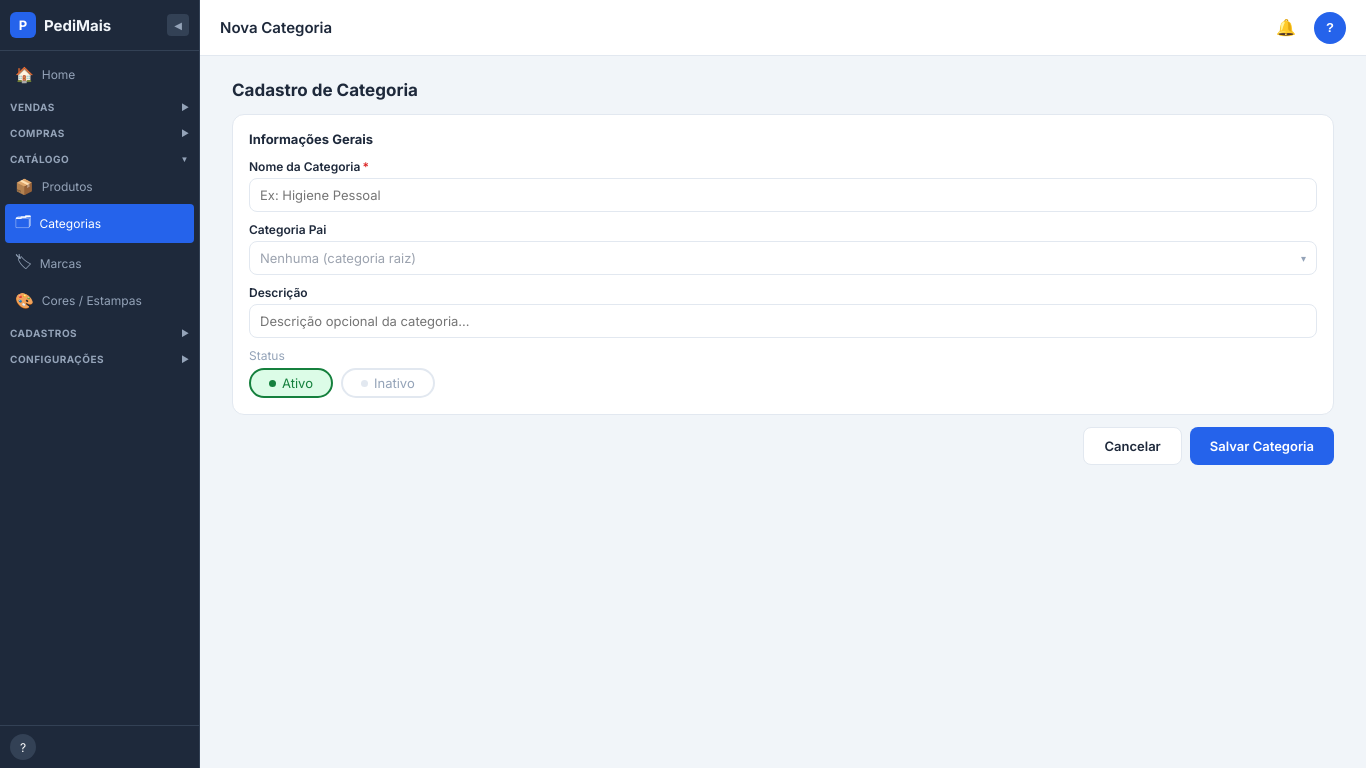
Test case: CategoryFormView › shows a conflict message on duplicate nome (409)
Type "Camisas" into the field with test id "nome".
click(783, 195); type("Camisas")  # box [249, 178, 1317, 212]
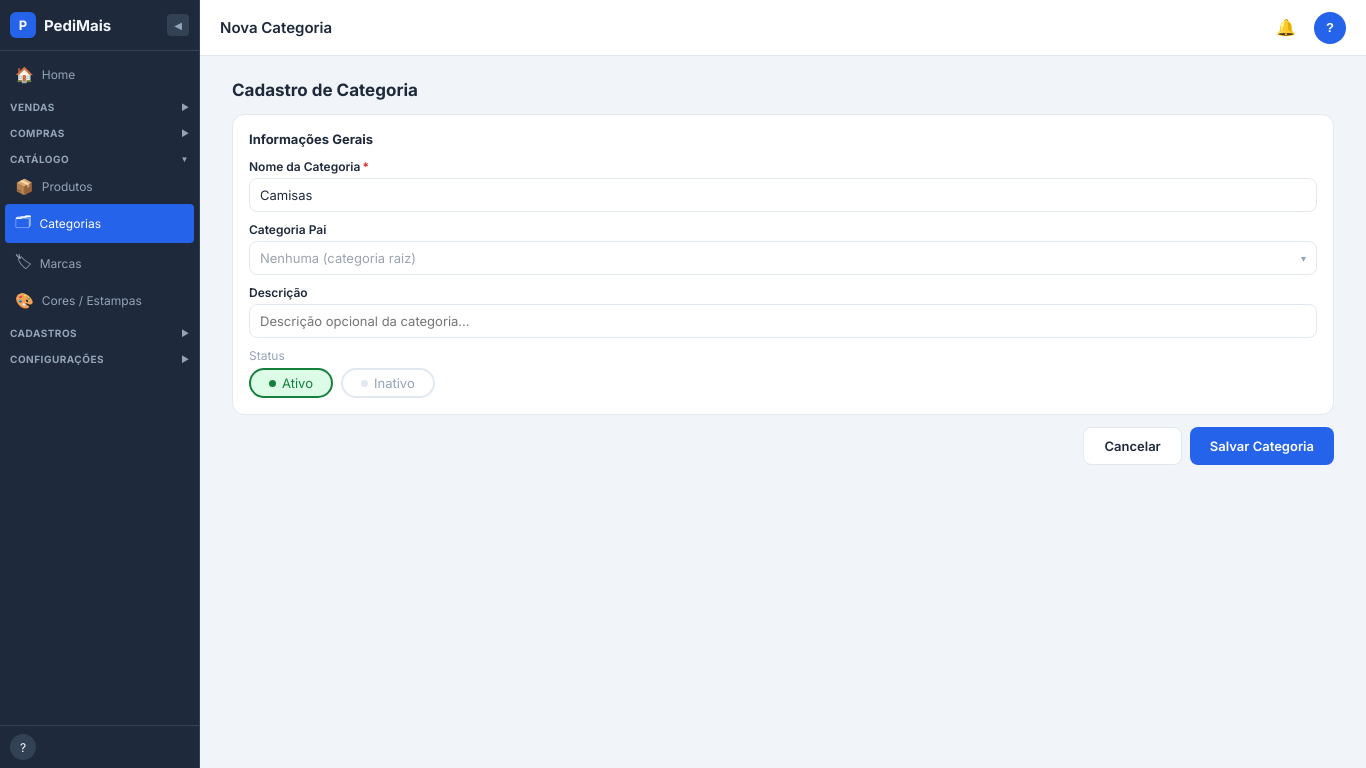
Submit the form, box [232, 114, 1334, 465]
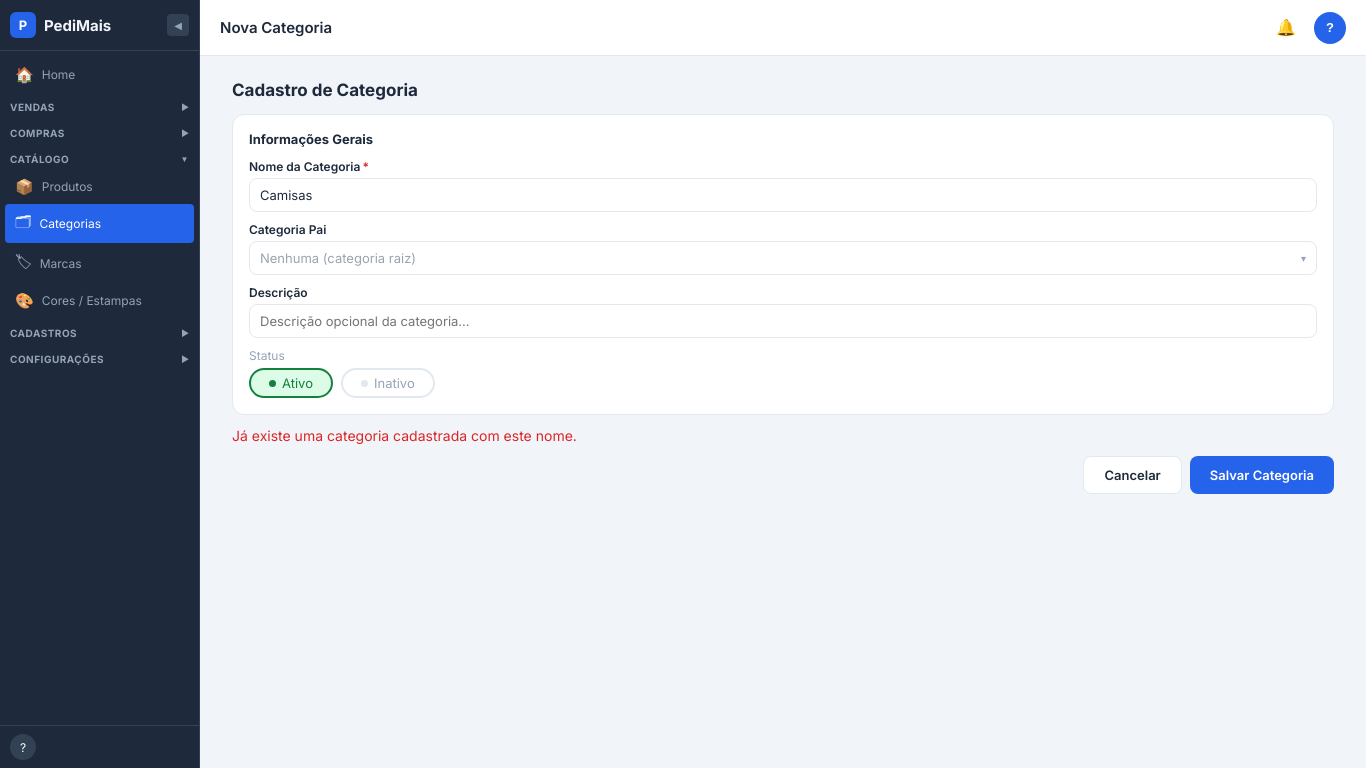
Expected: the text "Já existe uma categoria cadastrada com este nome" is shown, [232, 427, 577, 444]
